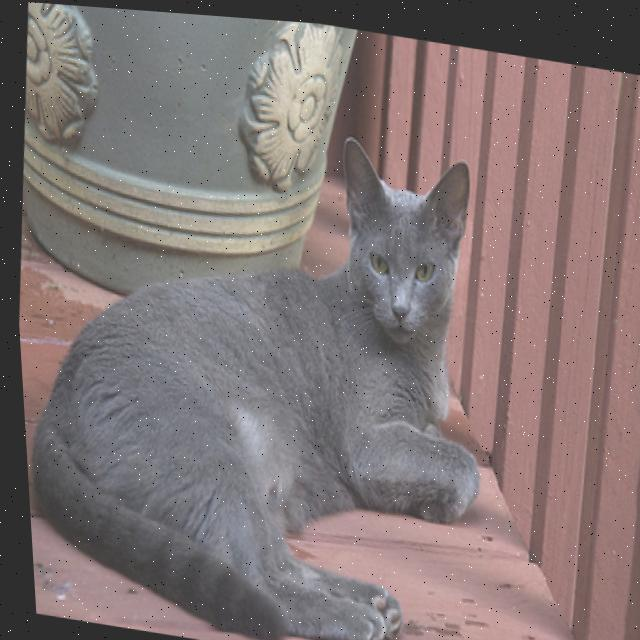Russian Blue: (4, 77, 515, 640)
